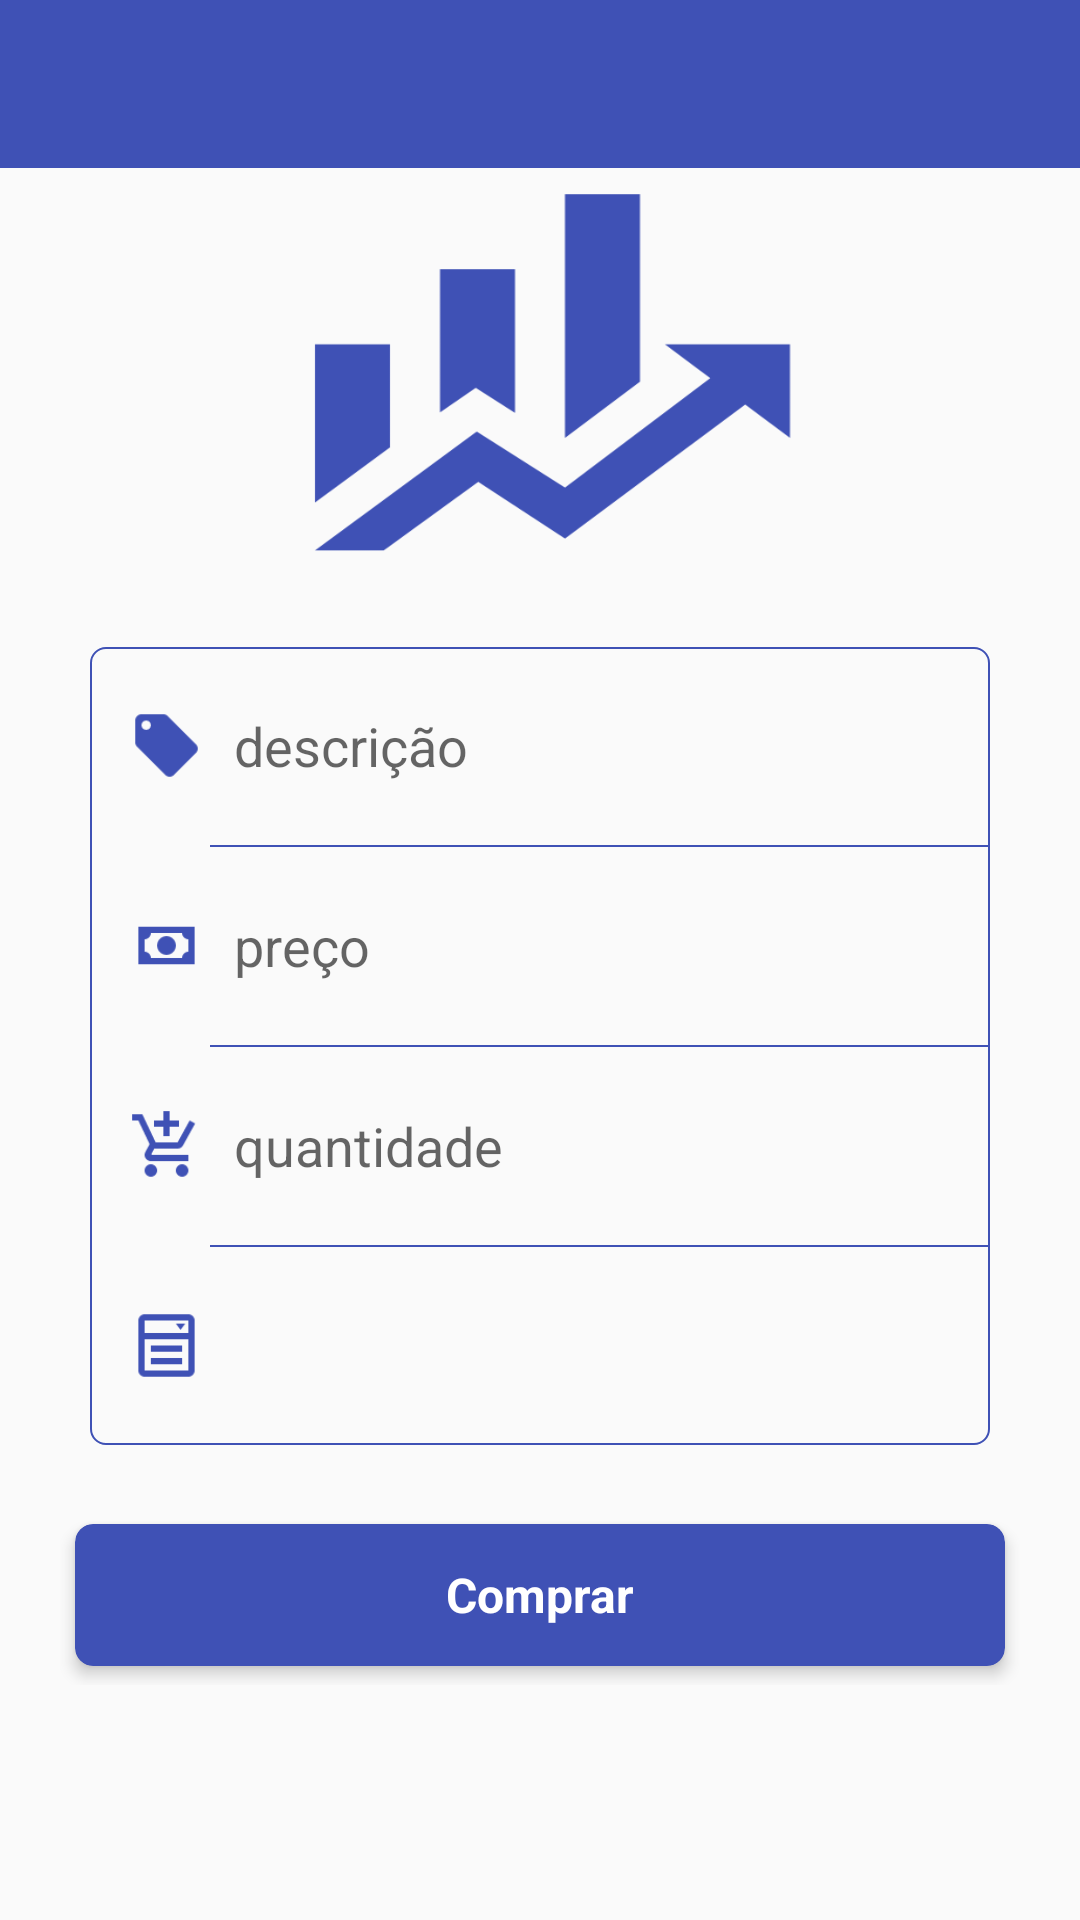

Where to tap for icons on this 1080px×1920px app screen, as (x=x, y=y):
cart plus: (x=163, y=1144)
cash: (x=166, y=945)
form select: (x=166, y=1345)
tag: (x=166, y=745)
